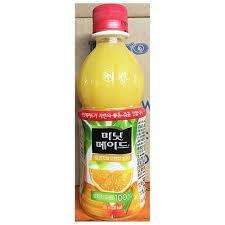minutemaid_org_orange: (75, 1, 149, 224)
